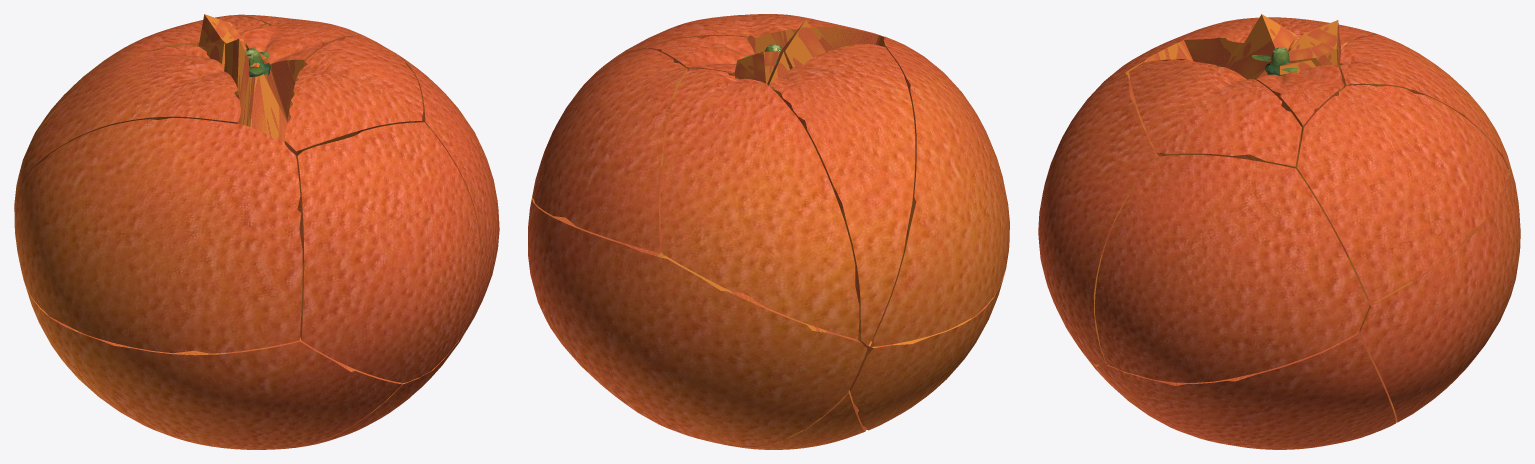
The model's file is orange_pieces.fbx.
3 views of the same model, side by side, from view 1: azimuth 30°, elevation 25°; view 2: azimuth 150°, elevation 25°; view 3: azimuth 270°, elevation 25° (orthographic).
Visible parts, largest first — view 1: orange_whole_cell.008, orange_whole_cell.015, orange_whole_cell.002, orange_whole_cell.017, orange_whole_cell.004, orange_whole_cell.001, orange_whole_cell.007, orange_whole_cell.003, orange_whole_cell.014, orange_whole_cell.019, orange_whole_cell.013, orange_whole_cell.009 (+2 smaller); view 2: orange_whole_cell.011, orange_whole_cell.003, orange_whole_cell.008, orange_whole_cell.017, orange_whole_cell.005, orange_whole_cell.002, orange_whole_cell.004, orange_whole_cell.007, orange_whole_cell.013, orange_whole_cell.019, orange_whole_cell.009; view 3: orange_whole_cell.001, orange_whole_cell.005, orange_whole_cell.016, orange_whole_cell.011, orange_whole_cell.015, orange_whole_cell.004, orange_whole_cell.003, orange_whole_cell.017, orange_whole_cell.007, orange_whole_cell.019, orange_whole_cell.009, orange_whole_cell.008.
Part boxes in pixels (x1,y1,x2,y2): orange_whole_cell.008: [14, 117, 302, 353]; orange_whole_cell.015: [296, 122, 480, 382]; orange_whole_cell.002: [22, 276, 402, 449]; orange_whole_cell.017: [14, 44, 240, 210]; orange_whole_cell.004: [284, 36, 423, 158]; orange_whole_cell.001: [396, 53, 499, 341]; orange_whole_cell.007: [239, 25, 353, 121]; orange_whole_cell.003: [24, 15, 269, 156]; orange_whole_cell.014: [248, 74, 286, 143]; orange_whole_cell.019: [224, 39, 250, 126]; orange_whole_cell.013: [294, 371, 431, 447]; orange_whole_cell.009: [198, 14, 246, 50]; orange_whole_cell.011: [528, 197, 867, 446]; orange_whole_cell.003: [660, 68, 859, 339]; orange_whole_cell.008: [870, 36, 1009, 346]; orange_whole_cell.017: [769, 44, 915, 345]; orange_whole_cell.005: [532, 48, 687, 252]; orange_whole_cell.002: [849, 265, 1006, 430]; orange_whole_cell.004: [615, 14, 881, 58]; orange_whole_cell.007: [648, 35, 754, 74]; orange_whole_cell.013: [721, 390, 865, 449]; orange_whole_cell.019: [777, 20, 825, 69]; orange_whole_cell.009: [734, 51, 779, 83]; orange_whole_cell.001: [1095, 155, 1369, 382]; orange_whole_cell.005: [1297, 85, 1508, 301]; orange_whole_cell.016: [1097, 332, 1396, 449]; orange_whole_cell.011: [1358, 166, 1520, 422]; orange_whole_cell.015: [1038, 74, 1158, 364]; orange_whole_cell.004: [1129, 59, 1301, 169]; orange_whole_cell.003: [1339, 34, 1510, 168]; orange_whole_cell.017: [1184, 17, 1380, 68]; orange_whole_cell.007: [1256, 64, 1344, 146]; orange_whole_cell.019: [1229, 14, 1295, 79]; orange_whole_cell.009: [1288, 20, 1341, 68]; orange_whole_cell.008: [1083, 19, 1237, 104].
Size of the model in its own units: 50.1 by 44.07 by 50.16.
Materials: 1 (1 with a texture image).
